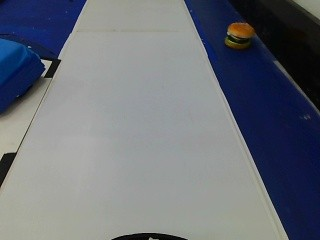burger: (216, 17, 258, 57)
